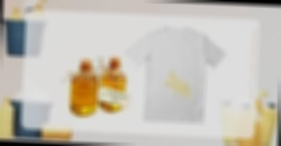oil: (162, 72, 192, 100)
